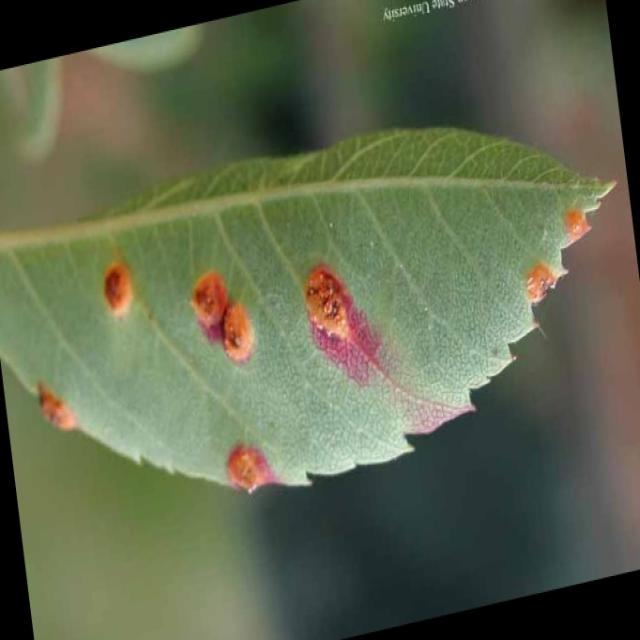Gymnosporangium_Rusts: (2, 124, 619, 498)
